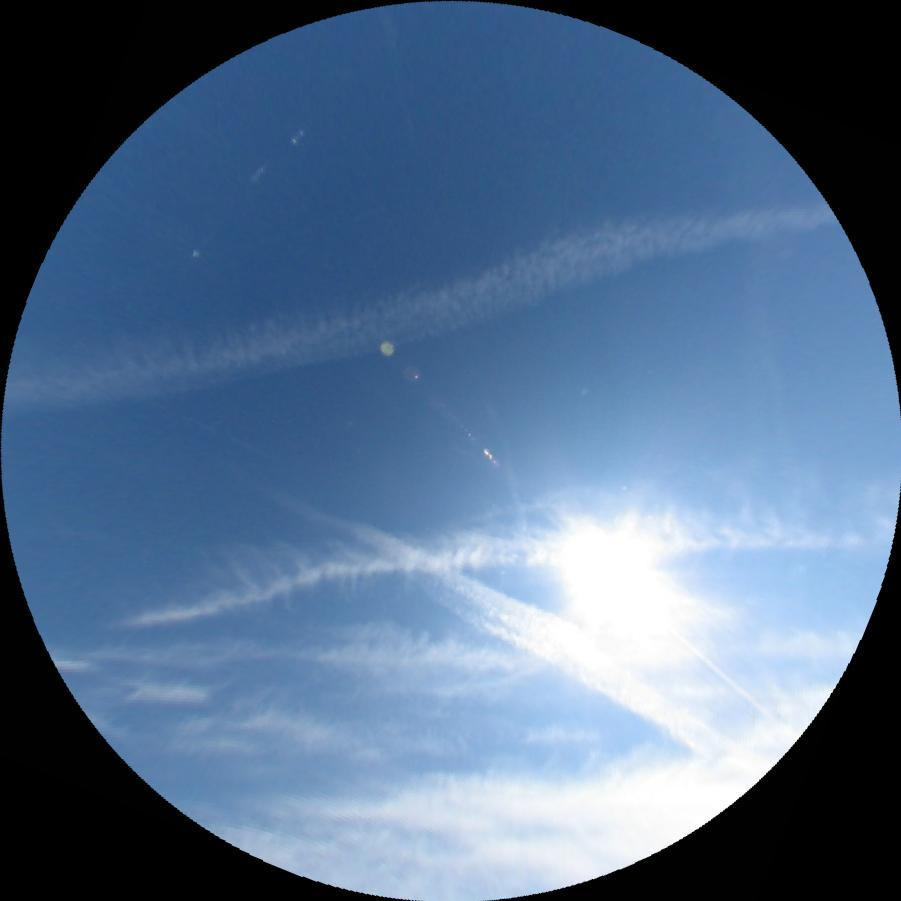contrail veryold: (0, 163, 838, 439), (257, 459, 750, 769), (107, 470, 888, 626)
parasite: (189, 64, 357, 258), (31, 345, 270, 456), (656, 614, 797, 741)
sun: (571, 520, 689, 637)
